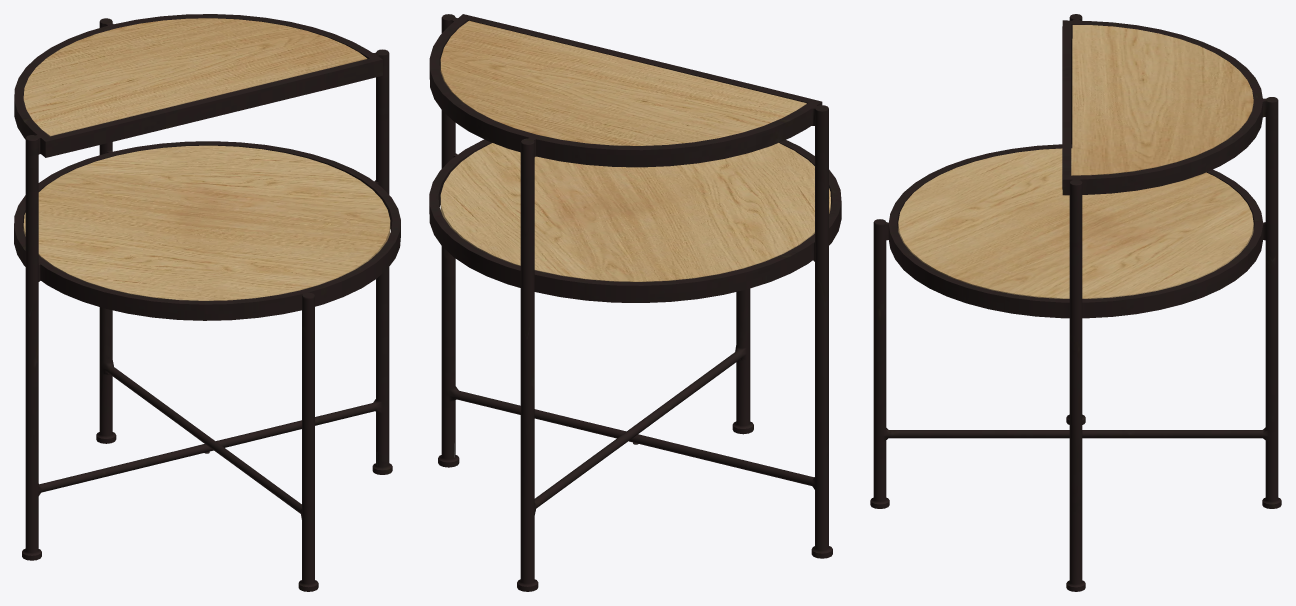
File: B07HSCRGTJ.glb
3 views of the same model, side by side, from view 1: azimuth 30°, elevation 25°; view 2: azimuth 150°, elevation 25°; view 3: azimuth 270°, elevation 25° (orthographic). The views are drawn at different scales.
Parts seen in each view (by area): view 1: RootNode; view 2: RootNode; view 3: RootNode.
Part boxes in pixels (left/top/right/bottom): RootNode: left=14, top=14, right=400, bottom=591; RootNode: left=429, top=14, right=841, bottom=591; RootNode: left=870, top=14, right=1281, bottom=591.
Size of the model in its own units: 0.6288 by 0.6838 by 0.6283.
1 material, 1 textured.
